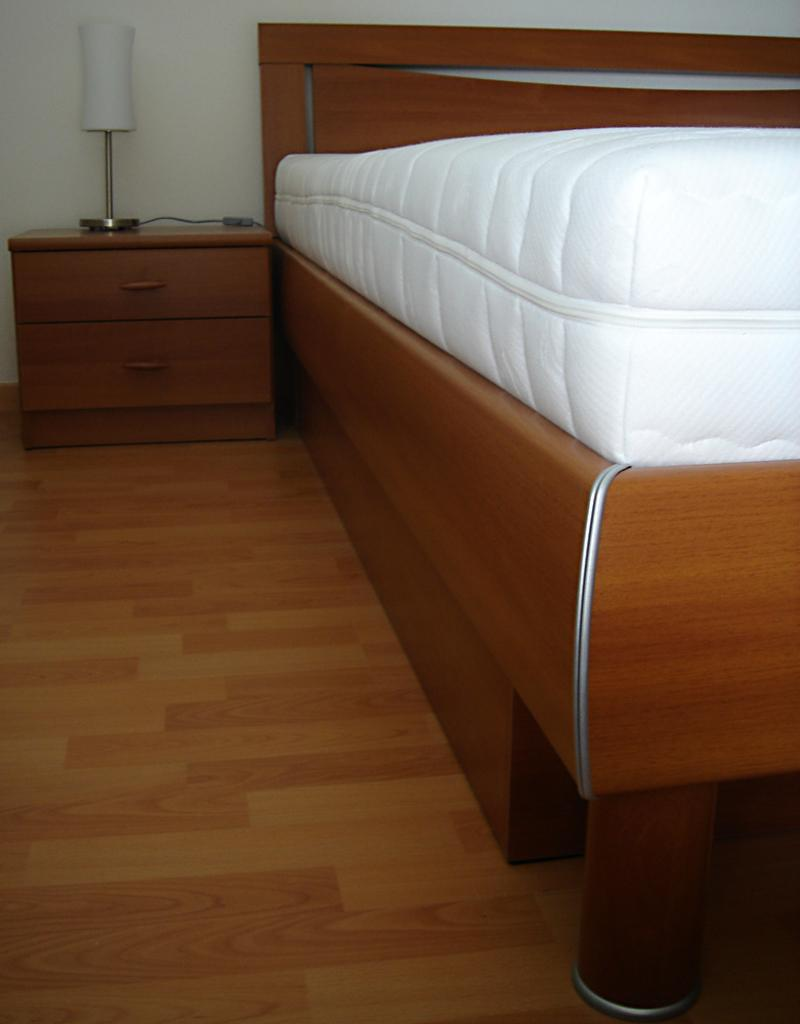cabinet_door: (22, 326, 268, 404), (22, 245, 266, 320)
handle: (128, 346, 168, 382), (122, 268, 162, 302)
